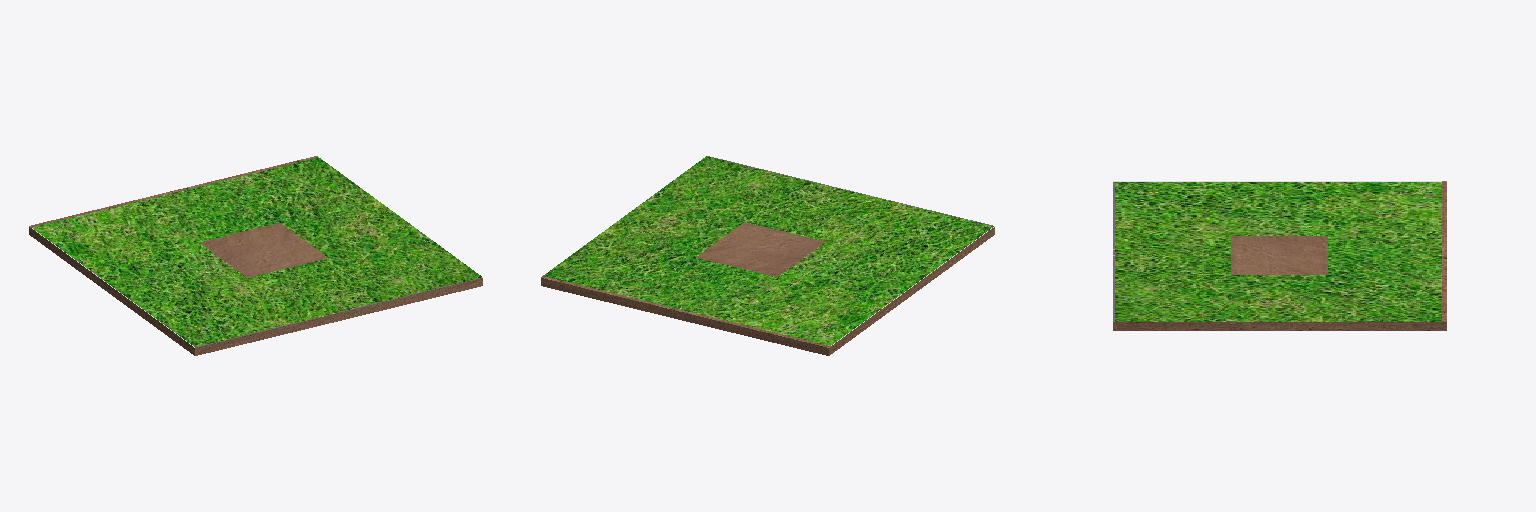
The picture shows the model from 3 angles: view 1: azimuth 30°, elevation 25°; view 2: azimuth 150°, elevation 25°; view 3: azimuth 270°, elevation 25°; orthographic projection.
Visible parts, largest first — view 1: pCube6; view 2: pCube6; view 3: pCube6.
Part boxes in pixels (x1,y1,x2,y2): pCube6: (29,156,482,355); pCube6: (541,156,994,355); pCube6: (1113,181,1446,330).
Bounding box in the file's own units: 36.29 × 1 × 36.29.
1 materials, 1 textured.